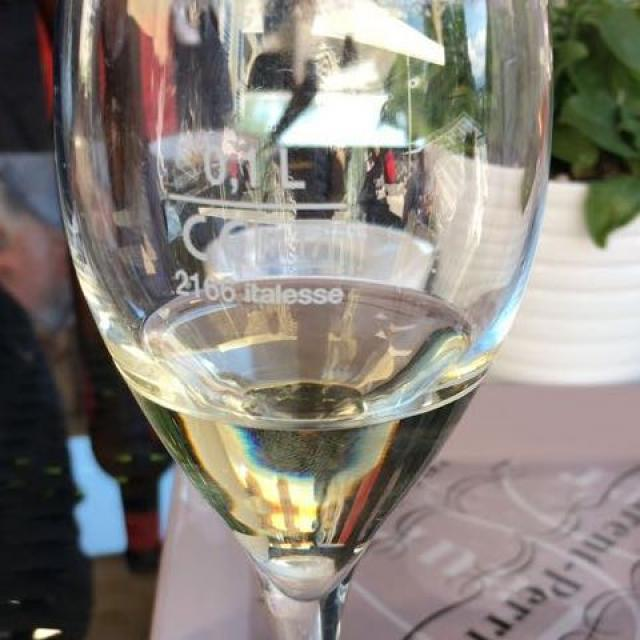wine-white: (143, 266, 494, 579)
